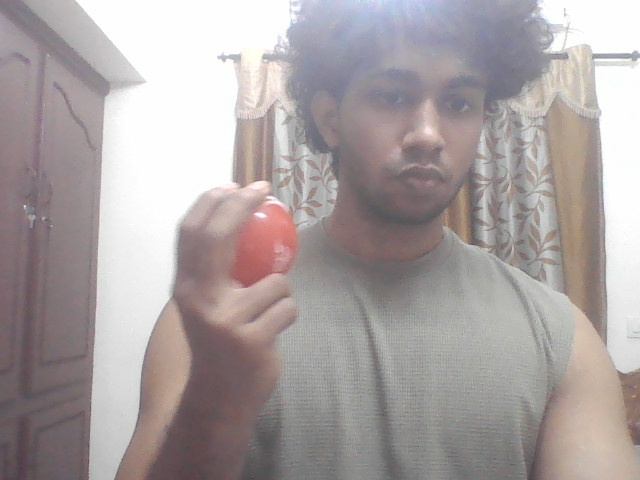cricket_ball: (226, 191, 310, 292)
